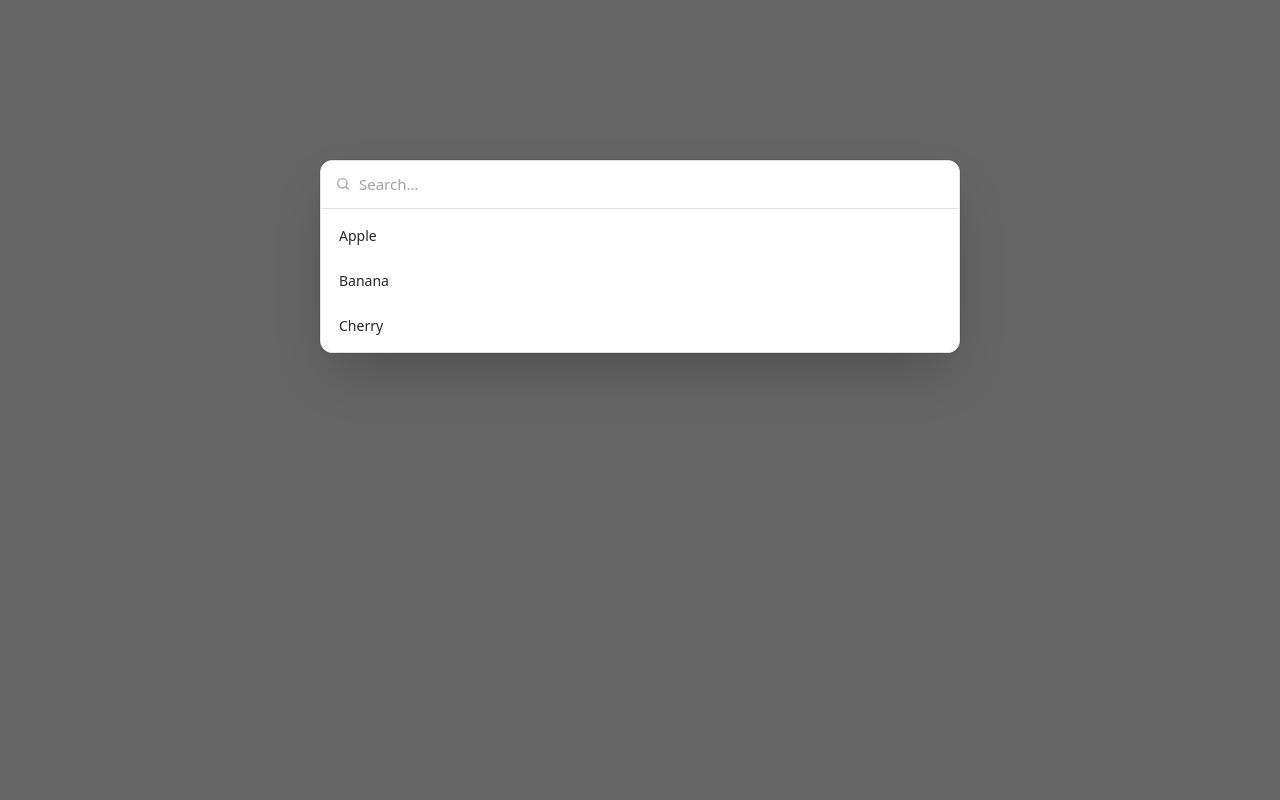
Test: filter › filters items by typed query
This screenshot has width=1280, height=800.
expect the text "Apple" is shown: met, box [339,226,377,244]
expect the text "Banana" is shown: met, box [339,270,389,290]
Type "ban" into the dropdown at (652, 184), box [359,173,945,196]
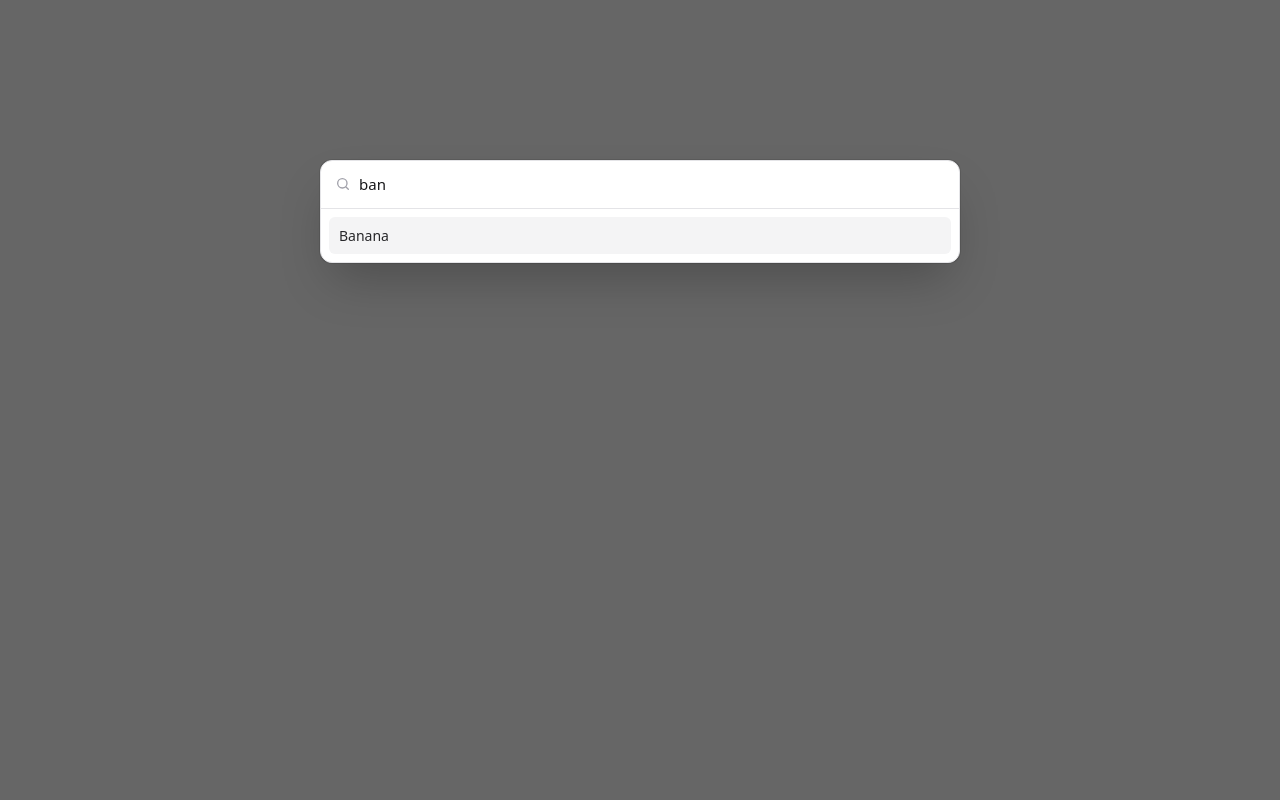
expect the text "Banana" is shown: met, box [339,226,389,244]
expect the option "Apple" is gone: met
